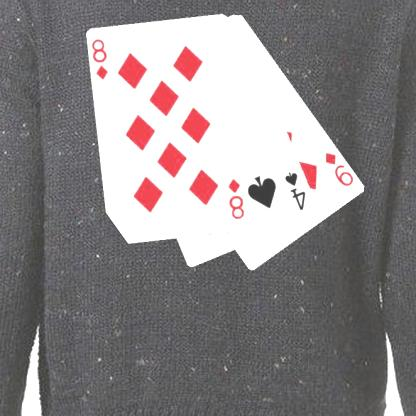4S: (282, 169, 307, 212)
8D: (226, 176, 246, 221), (90, 36, 109, 82)
9D: (322, 149, 356, 188)
